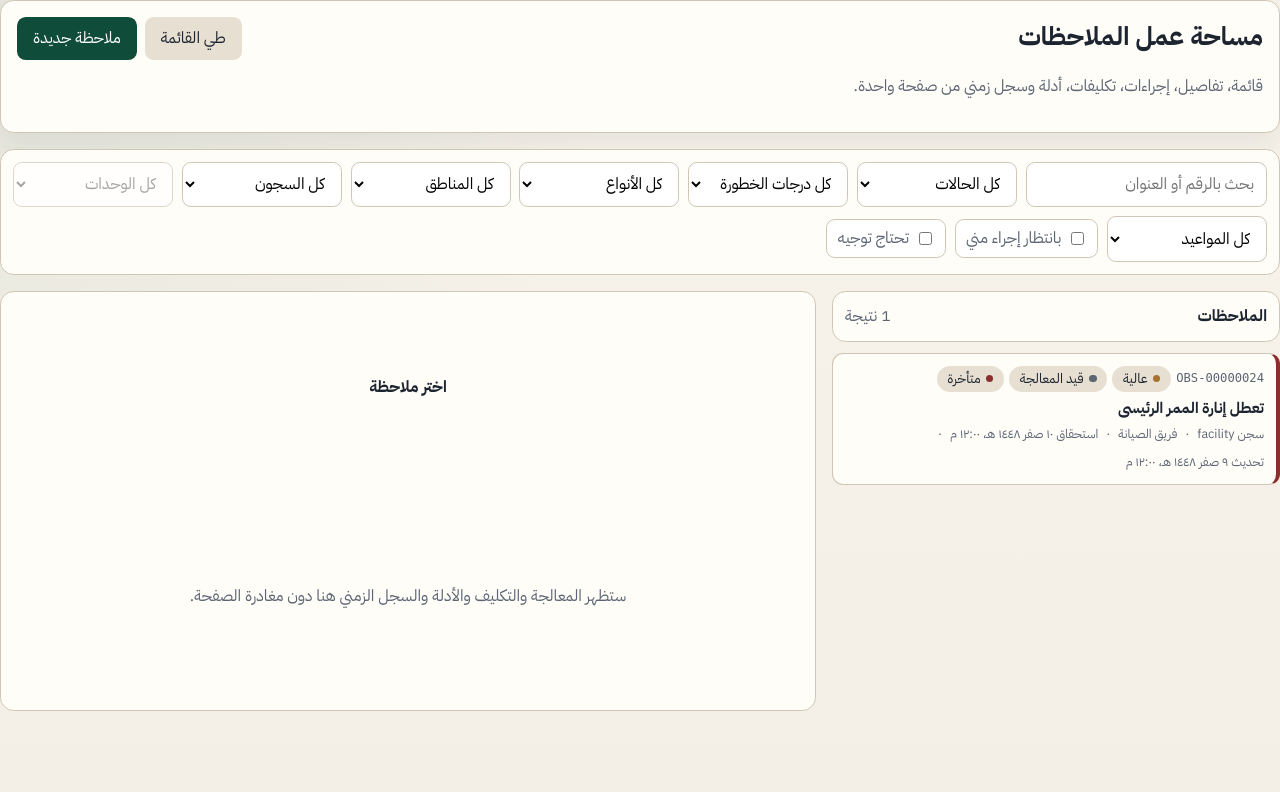
Scenario: ObservationWorkspacePage › keeps operators in one master-detail workspace and renders server allowed actions
This screenshot has width=1280, height=792.
expect the text "تعطل إنارة الممر الرئيسي" is shown: met, box x1=1118 y1=398 x2=1264 y2=418
expect the text "متأخرة" is shown: met, box x1=937 y1=366 x2=1004 y2=392
Click the button "OBS-00000024" at (1220, 378), box x1=832 y1=352 x2=1279 y2=484
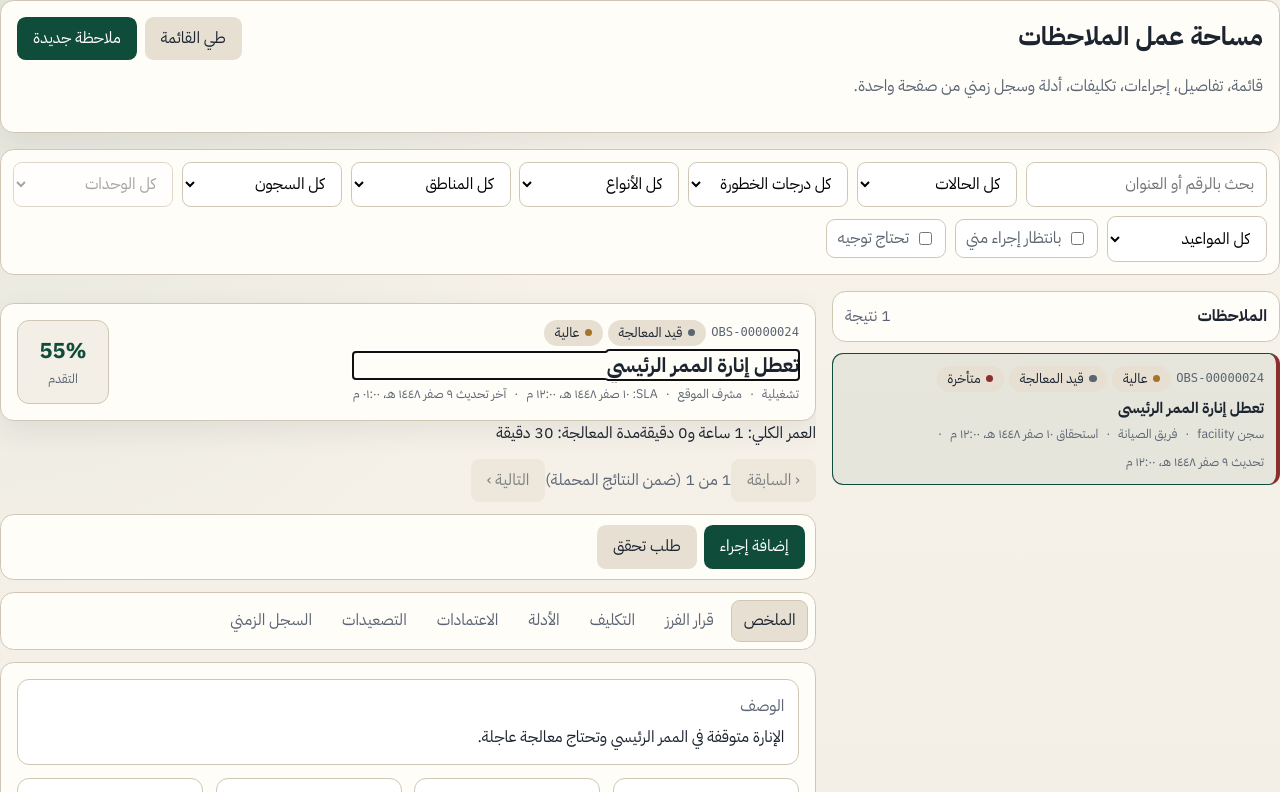
expect the heading "تعطل إنارة الممر الرئيسي" is shown: met, box x1=607 y1=350 x2=799 y2=380
expect the button "إضافة إجراء" is shown: met, box x1=704 y1=525 x2=805 y2=569
expect the button "طلب تحقق" is shown: met, box x1=597 y1=525 x2=696 y2=569
